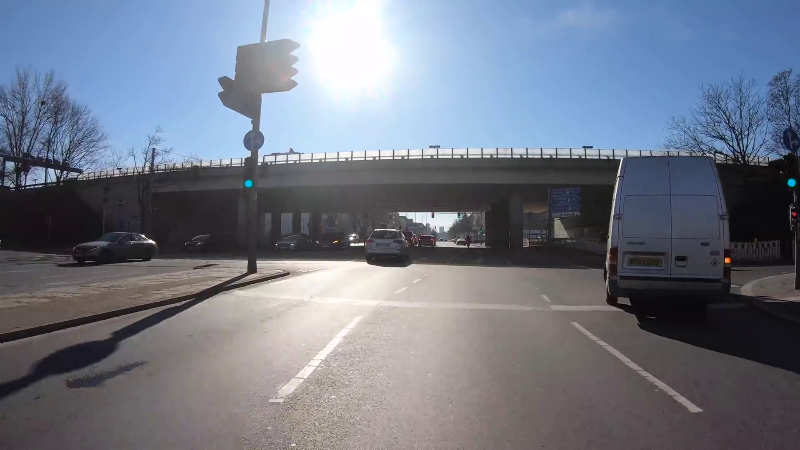Plate: (625, 256, 664, 267), (374, 241, 392, 247)
